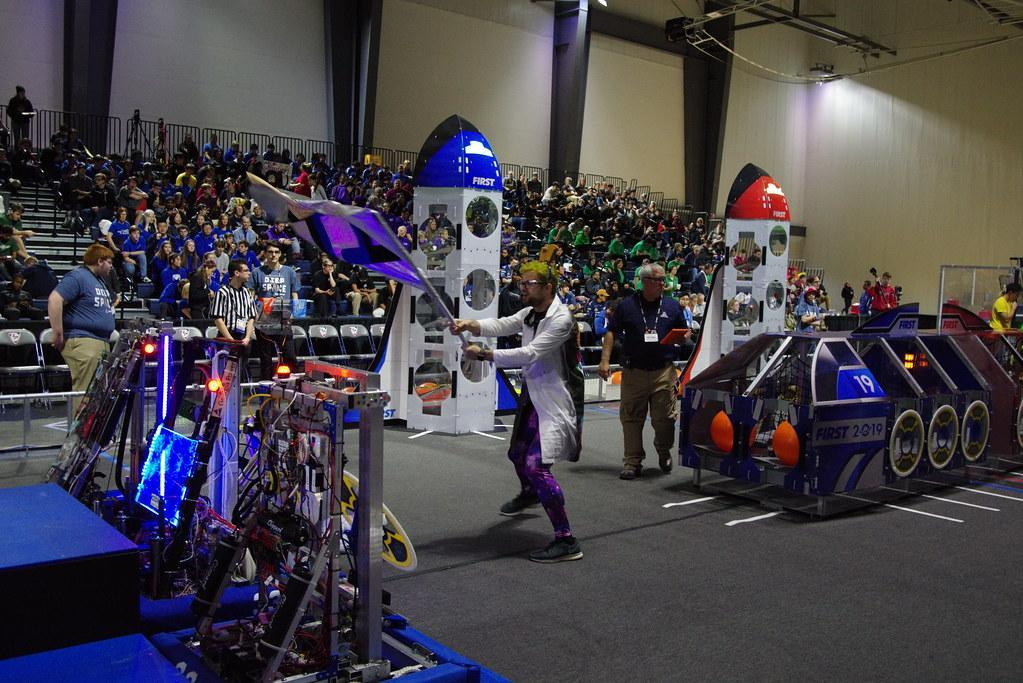robot: (142, 349, 489, 683), (113, 363, 414, 643), (47, 312, 224, 548)
